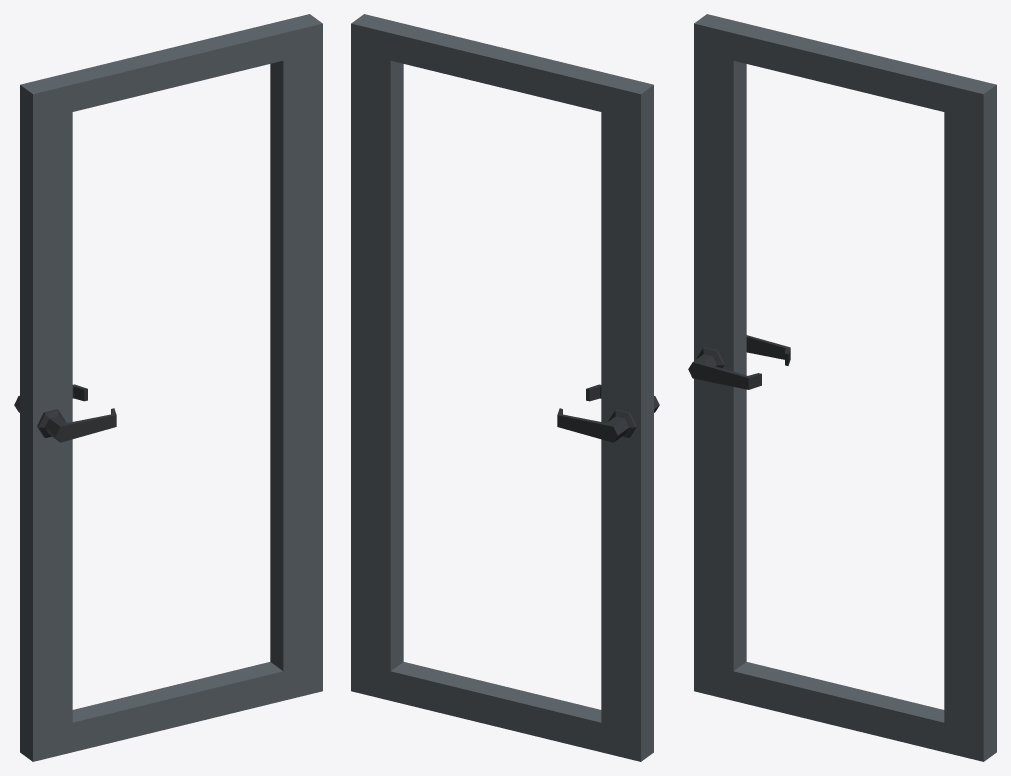
Rendered from SM_Bld_RepairShop_Large_01_Door_01.fbx.
3 renders of one model, left to right at view 1: azimuth 30°, elevation 25°; view 2: azimuth 150°, elevation 25°; view 3: azimuth 330°, elevation 25°, orthographic.
Parts seen in each view (by area): view 1: SM_Bld_RepairShop_Large_01_Door_01; view 2: SM_Bld_RepairShop_Large_01_Door_01; view 3: SM_Bld_RepairShop_Large_01_Door_01.
Part boxes in pixels (x1=…): SM_Bld_RepairShop_Large_01_Door_01: x1=14, y1=14, x2=322, y2=761; SM_Bld_RepairShop_Large_01_Door_01: x1=351, y1=14, x2=659, y2=761; SM_Bld_RepairShop_Large_01_Door_01: x1=688, y1=14, x2=996, y2=761.
Size of the model in its own units: 98.08 by 216 by 24.59.
